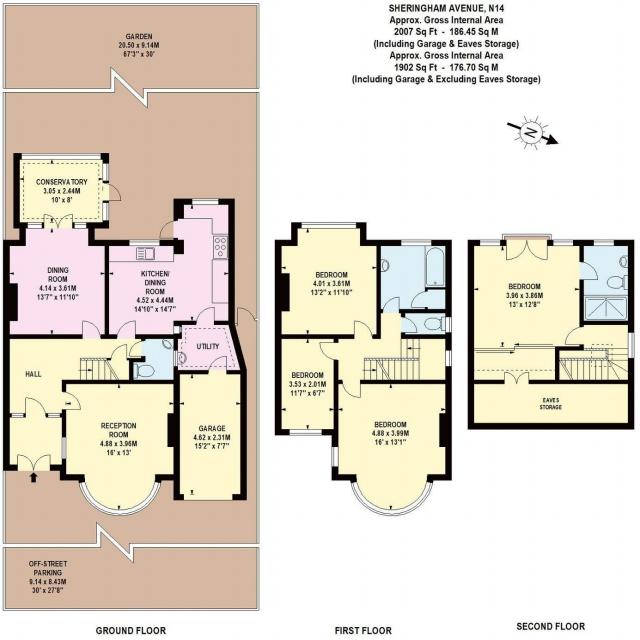DOOR: (341, 379, 361, 399), (353, 320, 374, 339), (207, 355, 228, 374), (564, 326, 584, 345), (579, 261, 598, 281), (319, 342, 339, 361), (61, 391, 81, 410), (116, 320, 136, 339), (81, 320, 101, 339), (159, 220, 178, 239), (196, 307, 215, 325), (400, 316, 418, 334), (382, 296, 400, 313), (128, 340, 146, 357)
DOUBLE DOOR: (505, 231, 550, 262), (43, 212, 74, 229), (503, 369, 531, 385)
ROOM: (104, 198, 235, 339), (331, 379, 452, 517), (59, 380, 180, 517), (467, 234, 598, 351), (3, 213, 109, 339), (275, 222, 381, 339), (274, 334, 339, 436)
WINDOW: (350, 481, 434, 517), (79, 481, 162, 516), (301, 222, 357, 229), (289, 429, 322, 436), (400, 239, 432, 246), (129, 239, 160, 246), (628, 332, 635, 359), (192, 198, 219, 205), (331, 446, 339, 467), (593, 239, 615, 246), (480, 239, 501, 246), (553, 239, 574, 246), (445, 350, 452, 367), (445, 317, 452, 333), (27, 222, 42, 229), (74, 222, 87, 229), (62, 437, 66, 459), (173, 350, 178, 367)
